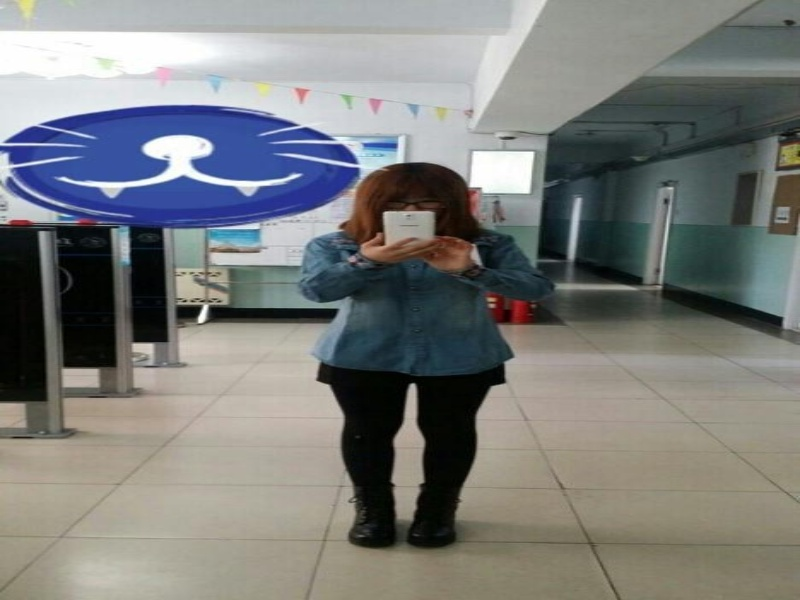long_sleeved_shirt: (284, 218, 562, 384)
shorts: (308, 343, 525, 392)
trousers: (326, 332, 501, 511)
